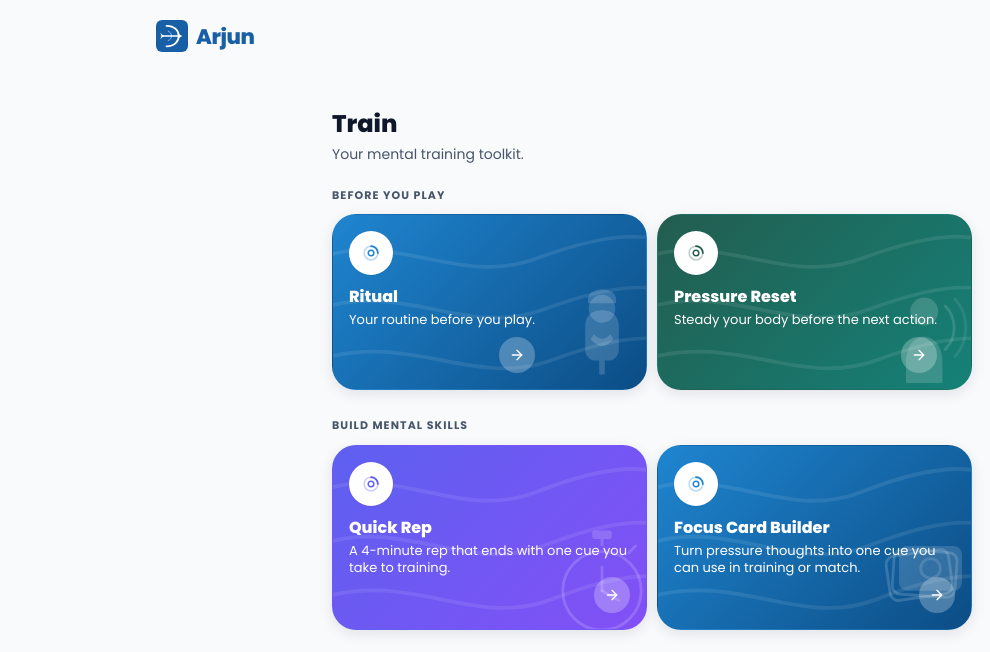
Test: TrainPage — Ritual entry, real router integration › retained Train tools still render and open their existing routes
The width and height of the screenshot is (990, 652).
Expected: the heading "Pressure Reset" is shown, x1=674 y1=285 x2=796 y2=308
Expected: the heading "Quick Rep" is shown, x1=349 y1=516 x2=432 y2=539
Click the button "Pressure Reset Steady your body before the next action." at x=814, y=302, box x1=657 y1=214 x2=972 y2=390
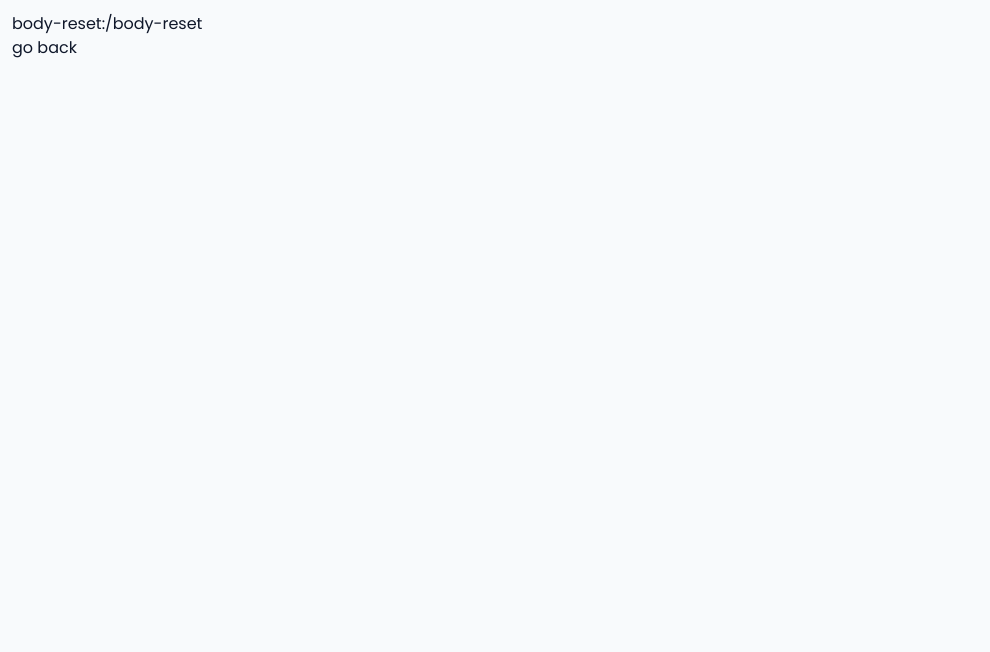
Now the text with test id "route-probe" reads "body-reset:/body-reset", box x1=12 y1=12 x2=202 y2=35
